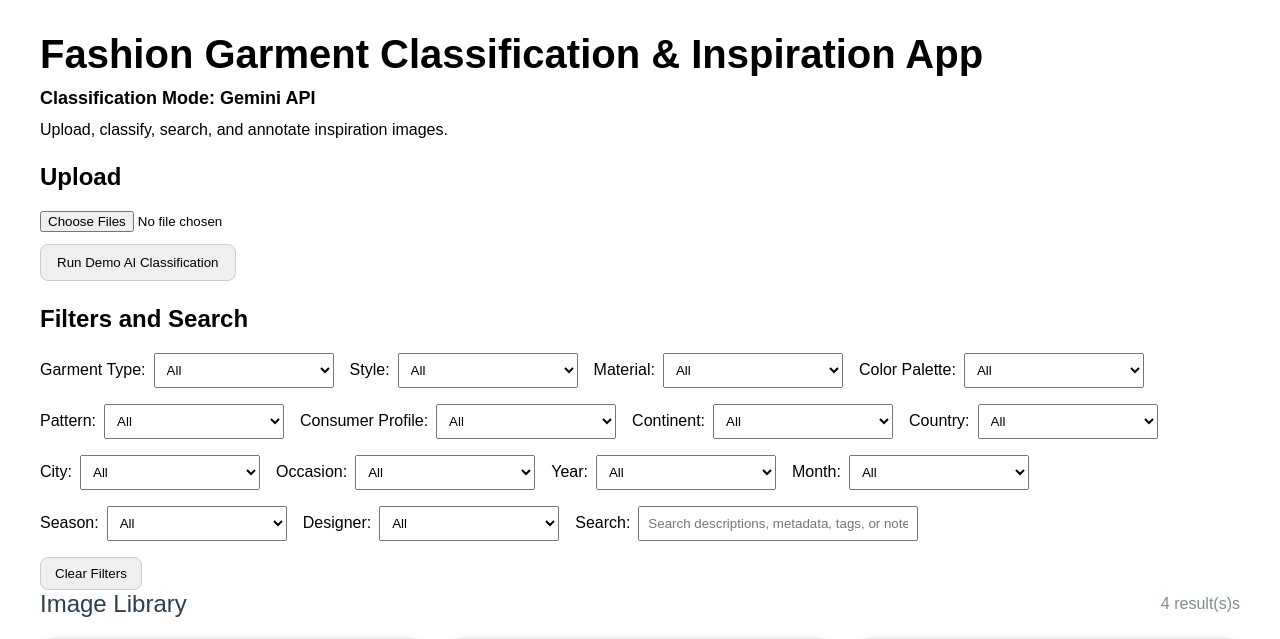
Scenario: App integration › filters the grid by garment type
Select "Dress" in the dropdown with id "garmentTypeFilter": [244, 370] box [154, 353, 334, 388]
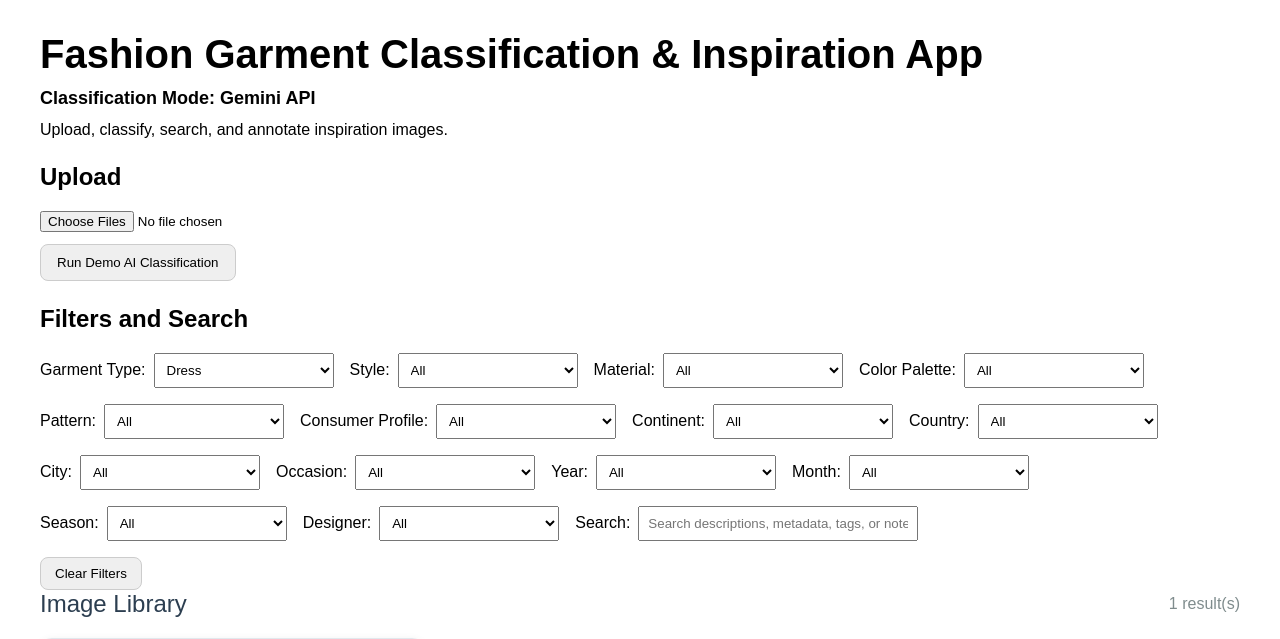
Now the text "1 result(s)" is shown, box [1169, 595, 1240, 613]
